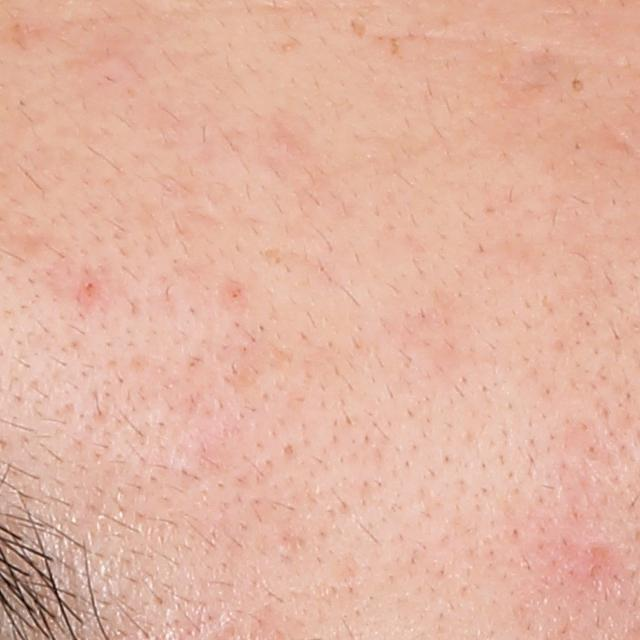atrophic_scar: (600, 119, 639, 163), (350, 16, 367, 40)
comedo: (568, 77, 588, 96)
